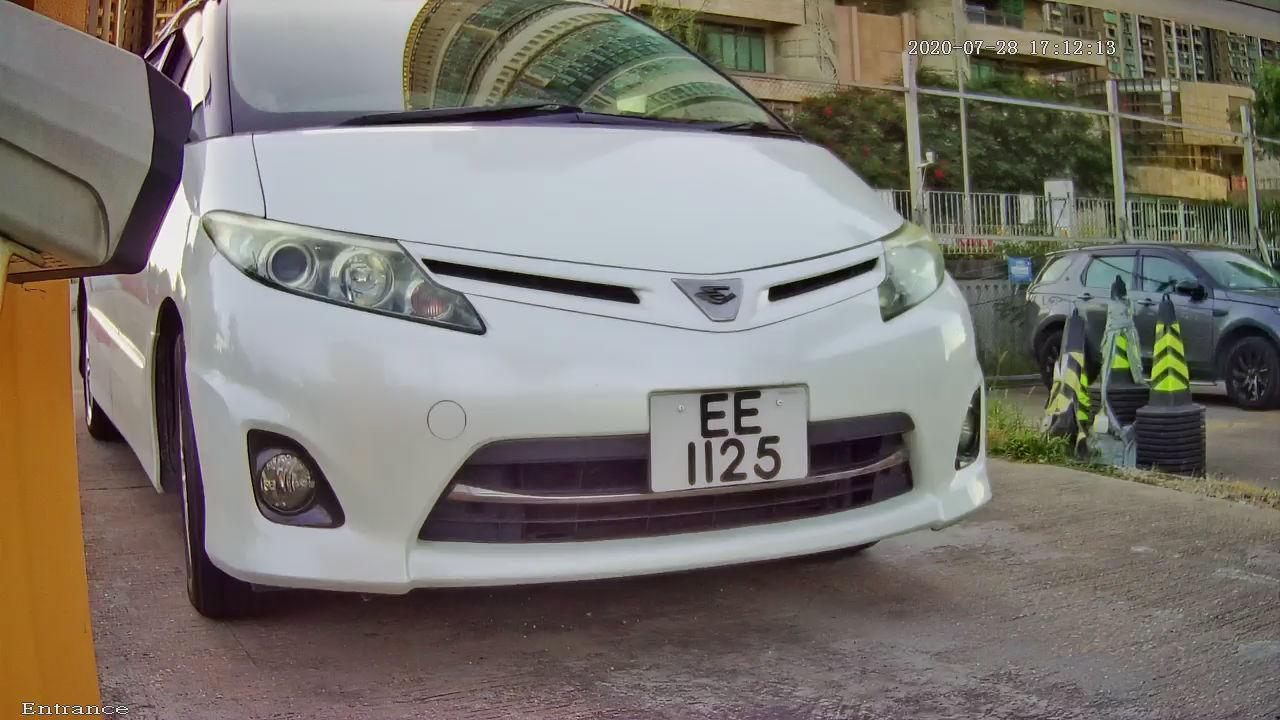privatecar: (52, 7, 1121, 650)
